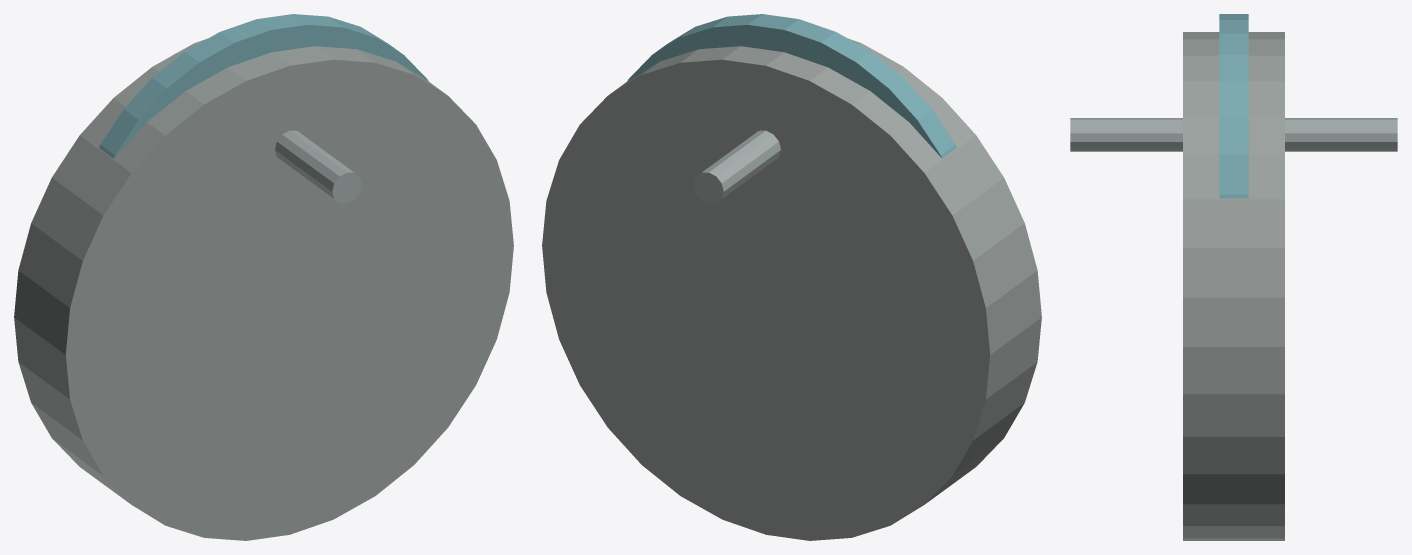
Rendered from effluent-treatment-high.glb.
3 renders of one model, left to right at view 1: azimuth 30°, elevation 25°; view 2: azimuth 150°, elevation 25°; view 3: azimuth 270°, elevation 25°, orthographic.
Visible parts, largest first — view 1: basin, water, shaft; view 2: basin, water, shaft; view 3: basin, shaft, water.
Part boxes in pixels (box(x1,y1,x2,y2)): basin: box(14, 38, 513, 540); water: box(99, 14, 428, 158); shaft: box(173, 53, 361, 203); basin: box(542, 38, 1041, 540); water: box(627, 14, 956, 158); shaft: box(694, 53, 882, 203); basin: box(1183, 32, 1284, 540); shaft: box(1070, 118, 1397, 151); water: box(1219, 14, 1248, 198).
Bounding box in the file's own units: 2.1 × 2.2 × 1.35.
